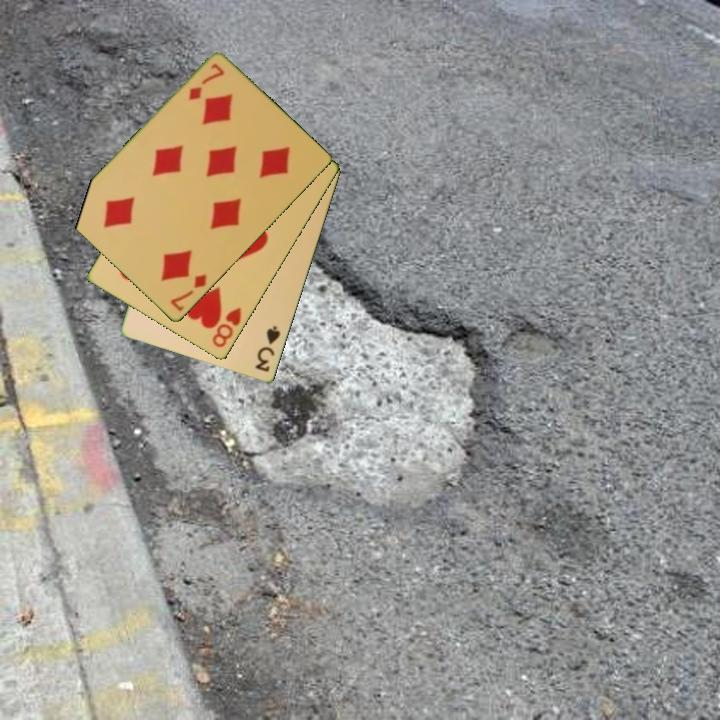3s: (251, 323, 284, 375)
7d: (167, 271, 210, 315), (185, 60, 227, 104)
8h: (208, 304, 244, 351)
